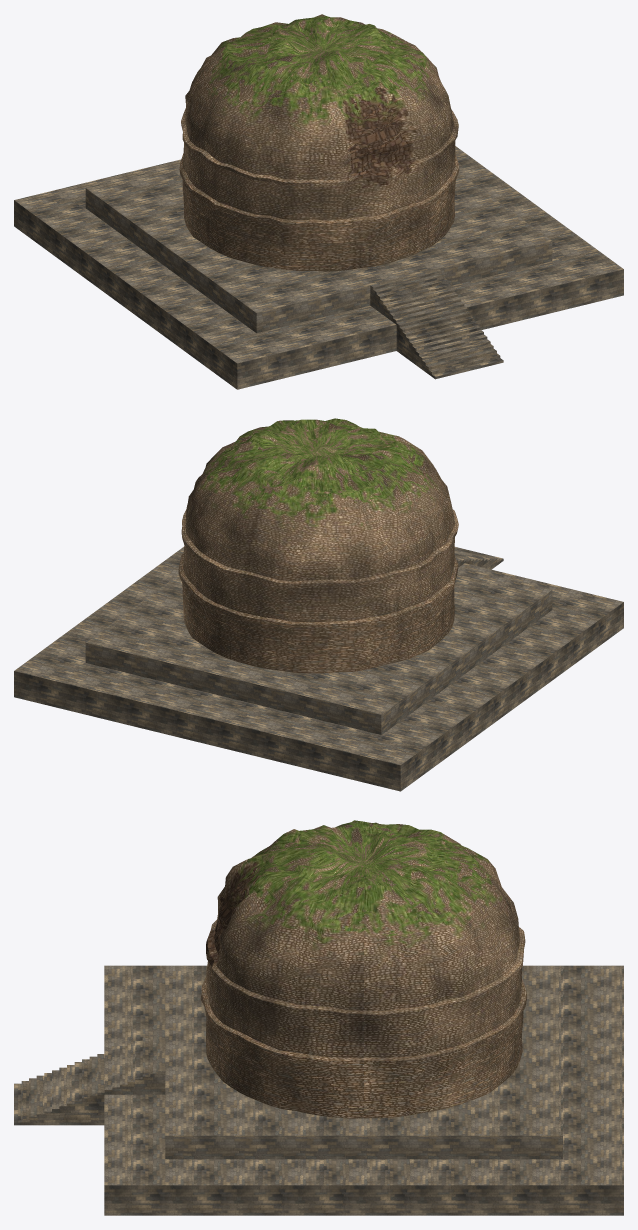
Rendered from amluk-dara-stupa.glb.
The picture shows the model from 3 angles, top to bottom: view 1: azimuth 30°, elevation 25°; view 2: azimuth 150°, elevation 25°; view 3: azimuth 270°, elevation 25°; orthographic projection. The views are drawn at different scales.
Parts seen in each view (by area): view 1: amluk-dara-stupa_blocks, amluk-dara-stupa_lathe; view 2: amluk-dara-stupa_blocks, amluk-dara-stupa_lathe; view 3: amluk-dara-stupa_blocks, amluk-dara-stupa_lathe.
Boxes of the visible parts, box(x1,y1,x2,y2) form: amluk-dara-stupa_blocks: box(14, 146, 623, 389); amluk-dara-stupa_lathe: box(179, 14, 459, 271); amluk-dara-stupa_blocks: box(14, 547, 623, 791); amluk-dara-stupa_lathe: box(178, 418, 458, 673); amluk-dara-stupa_blocks: box(14, 965, 623, 1215); amluk-dara-stupa_lathe: box(200, 820, 526, 1118).
Bounding box in the file's own units: 34 × 18.57 × 39.9.
2 materials, 2 textured.
